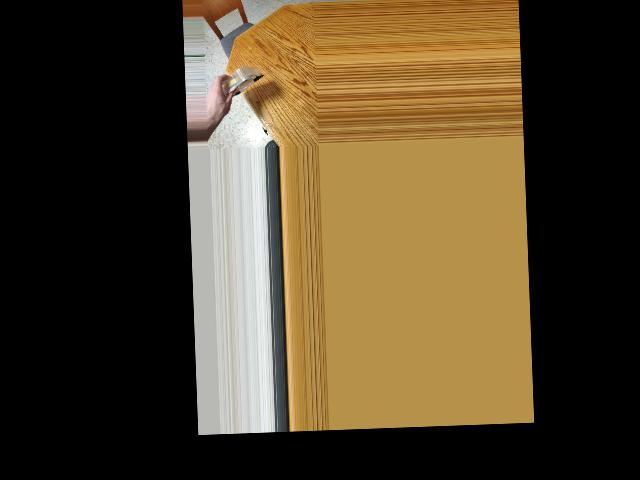cheese: (210, 54, 255, 113)
